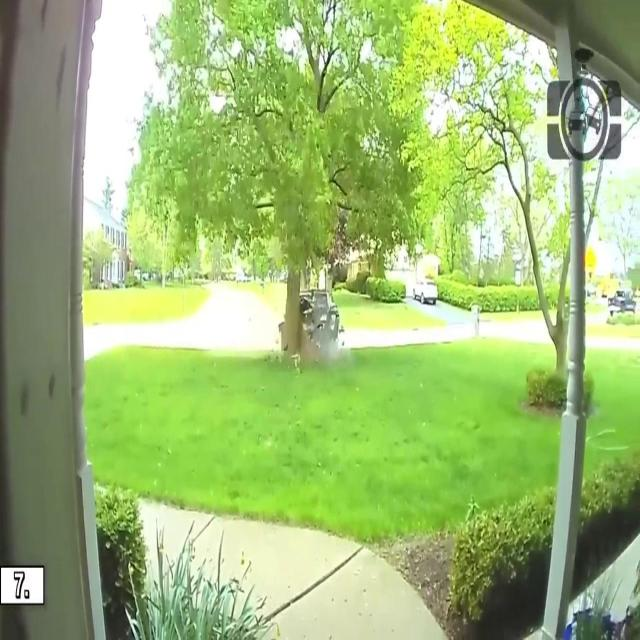accident: (275, 285, 346, 367)
